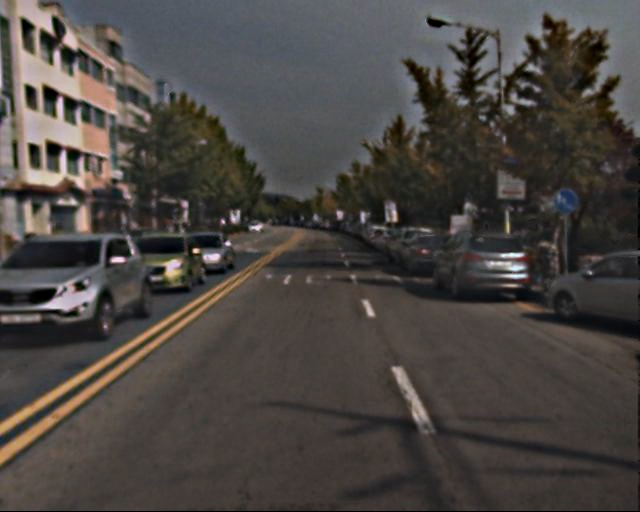person: (613, 223, 640, 294), (530, 219, 556, 282), (507, 222, 531, 280)
